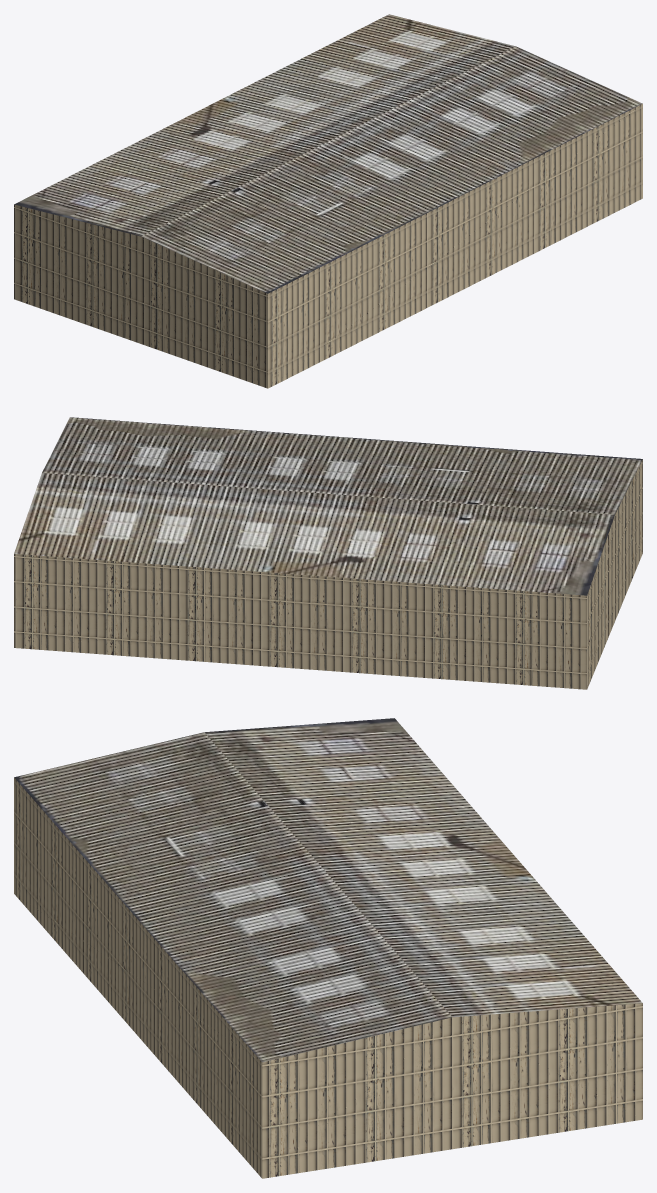
The model's file is hangarBehindRamp2.gltf.
The picture shows the model from 3 angles, top to bottom: view 1: azimuth 30°, elevation 25°; view 2: azimuth 150°, elevation 25°; view 3: azimuth 270°, elevation 25°; orthographic projection. The views are drawn at different scales.
Parts seen in each view (by area): view 1: node2, node1; view 2: node2, node1; view 3: node2, node1.
Part boxes in pixels (left/top/right/bottom): node2: left=14, top=14, right=642, bottom=293; node1: left=14, top=104, right=642, bottom=388; node2: left=14, top=417, right=642, bottom=595; node1: left=14, top=459, right=642, bottom=689; node2: left=14, top=718, right=642, bottom=1062; node1: left=14, top=778, right=642, bottom=1178.
Bounding box in the file's own units: 23.8 × 4.25 × 18.37.
